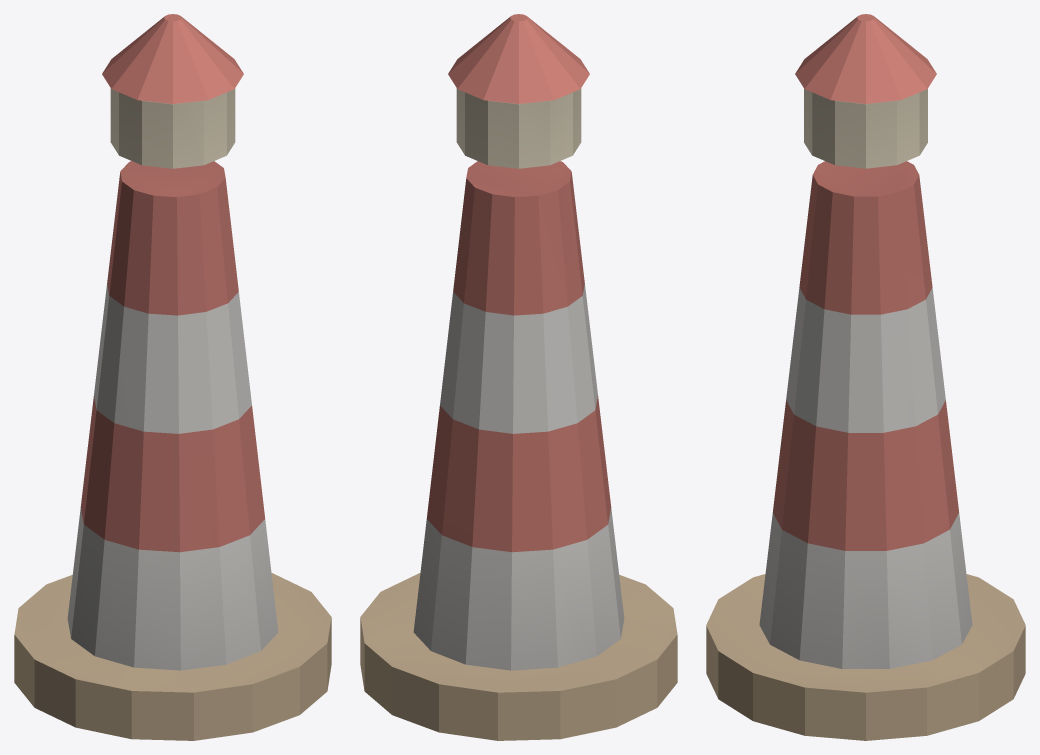
Rendered from furn_mini_lighthouse__classic.glb.
3 views of the same model, side by side, from view 1: azimuth 30°, elevation 25°; view 2: azimuth 150°, elevation 25°; view 3: azimuth 270°, elevation 25° (orthographic).
Bounding box in the file's own units: 0.36 × 0.815 × 0.36.
